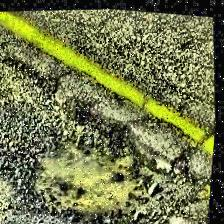pothole: (2, 92, 170, 224)
